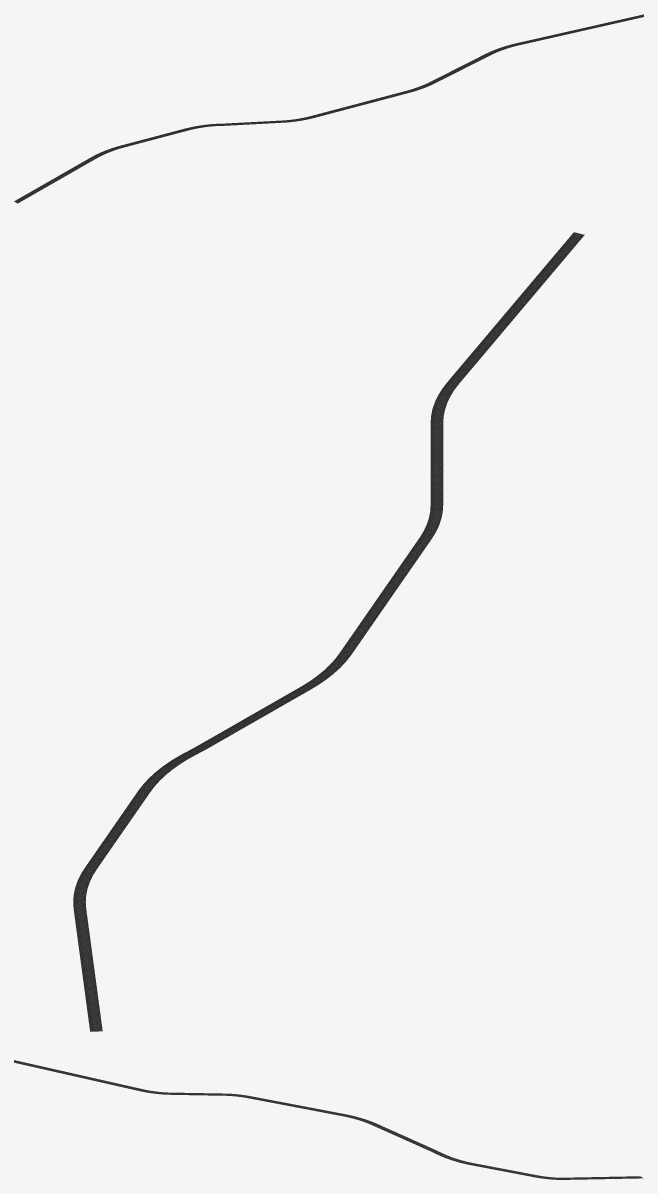
Rendered from OBJ_CourseSpring_Road.fbx.
3 renders of one model, top to bottom at view 1: azimuth 90°, elevation 25°; view 2: azimuth 150°, elevation 25°; view 3: azimuth 270°, elevation 25°, orthographic. The views are drawn at different scales.
Visible parts, largest first — view 1: OBJ_Course; view 2: OBJ_Course; view 3: OBJ_Course.
Part boxes in pixels (left/top/right/bottom): OBJ_Course: left=14, top=14, right=643, bottom=203; OBJ_Course: left=73, top=232, right=584, bottom=1031; OBJ_Course: left=14, top=1060, right=643, bottom=1179.
Bounding box in the file's own units: 68.13 × 127 × 479.
1 material, 1 textured.
